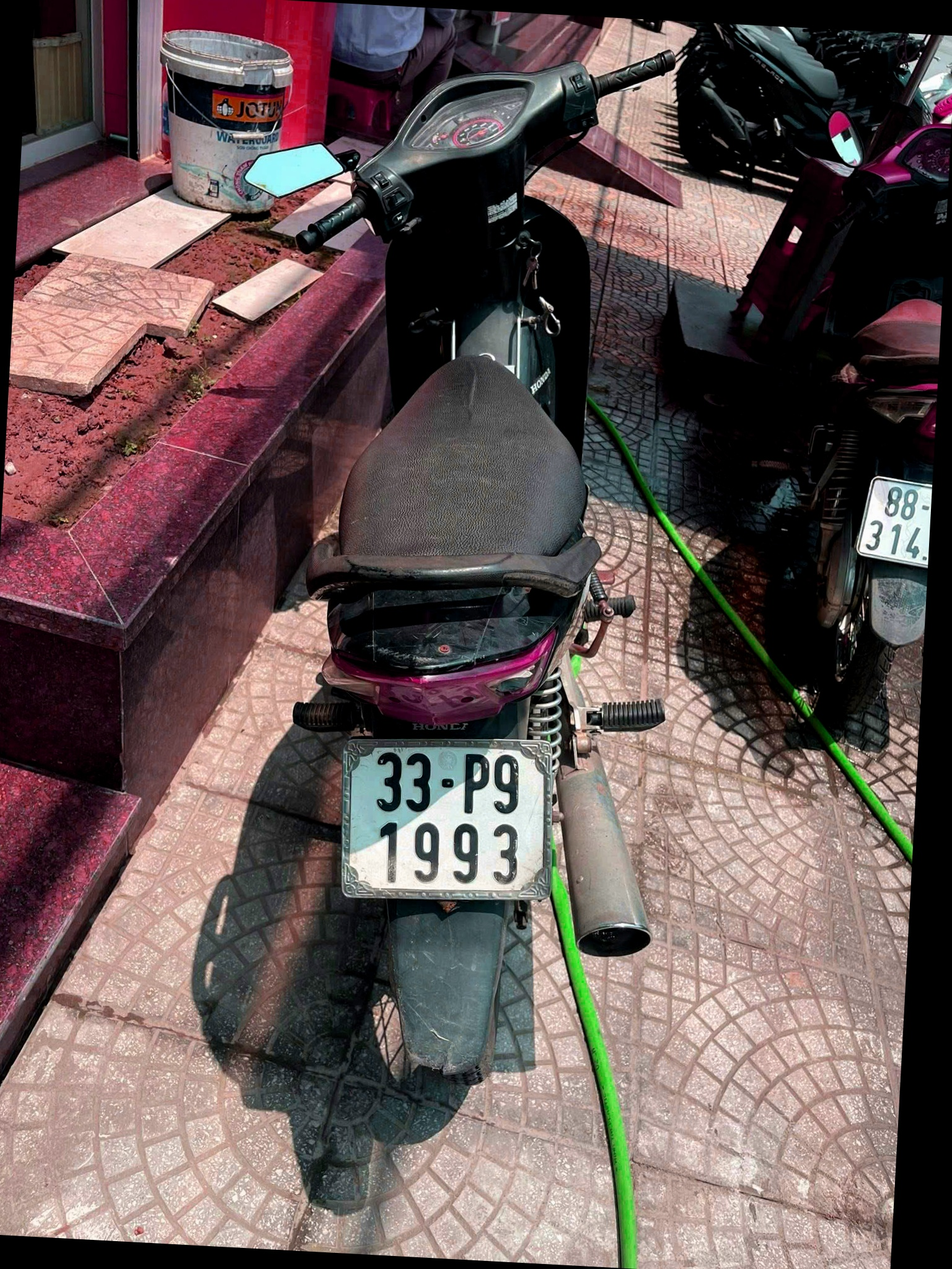Bien-so: (340, 732, 561, 913), (855, 471, 932, 568)
